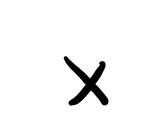mult: (62, 54, 109, 105)
